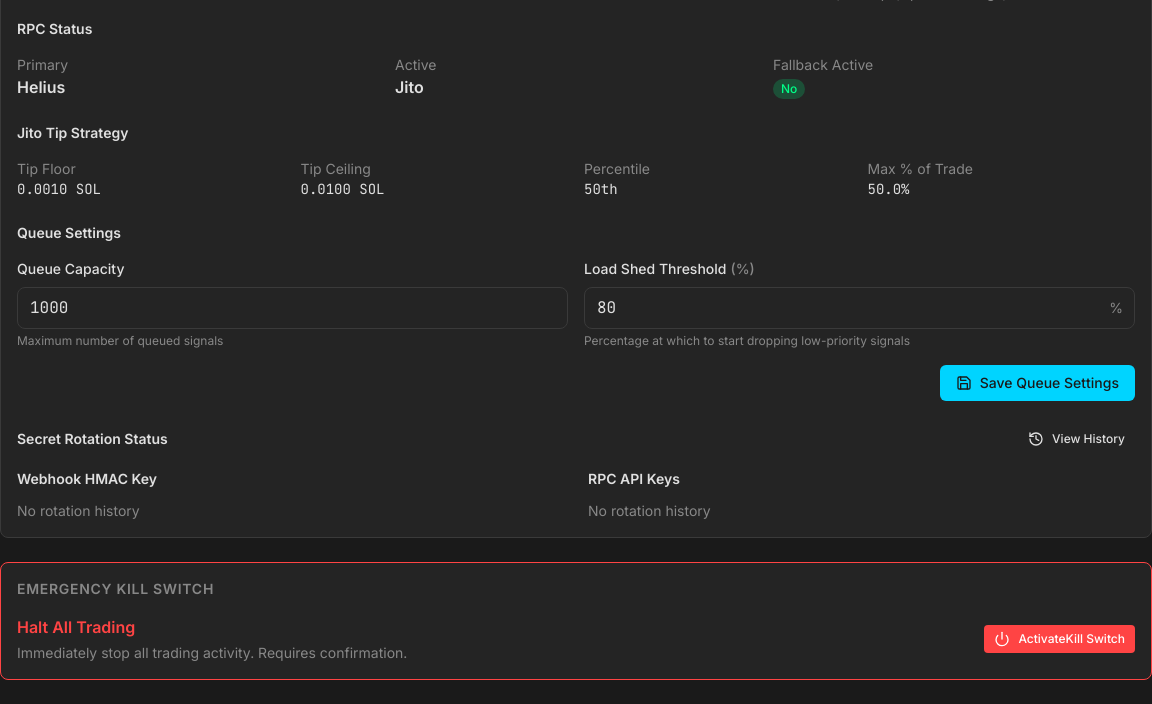
Scenario: Config › renders the audit loading and empty states
(page scrolled)
Click the button "View History": click(1077, 439) [1018, 425, 1135, 453]
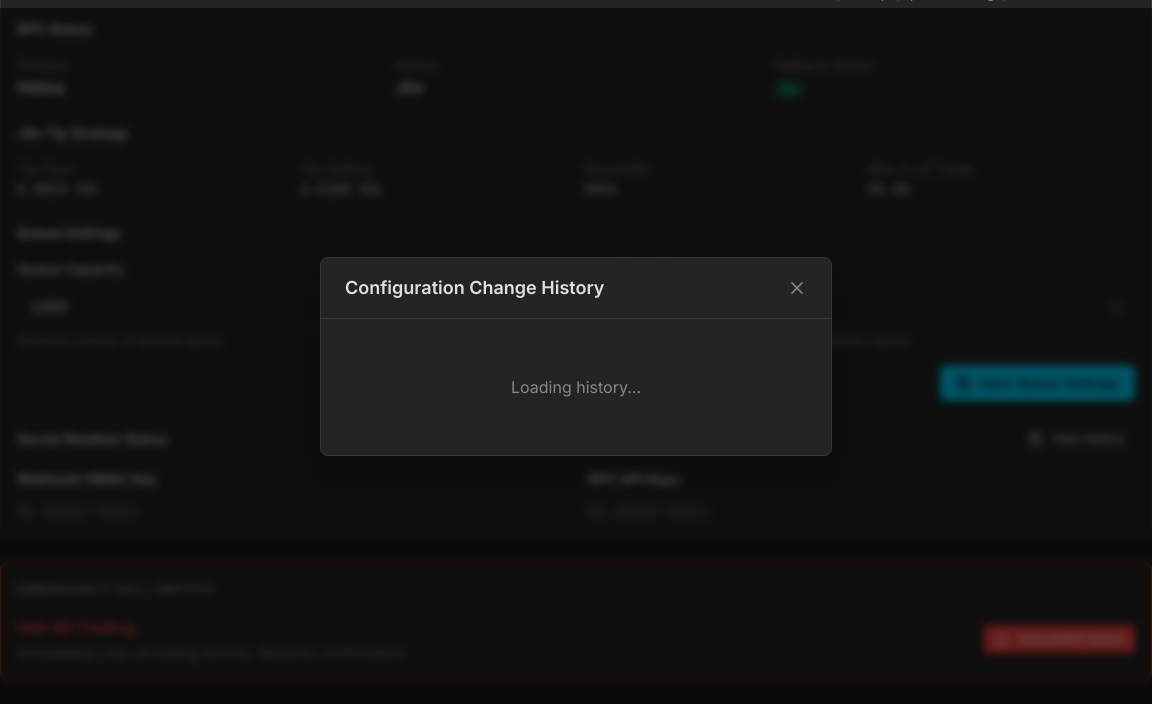
Now the text "Loading history..." is shown, box [511, 376, 641, 396]
